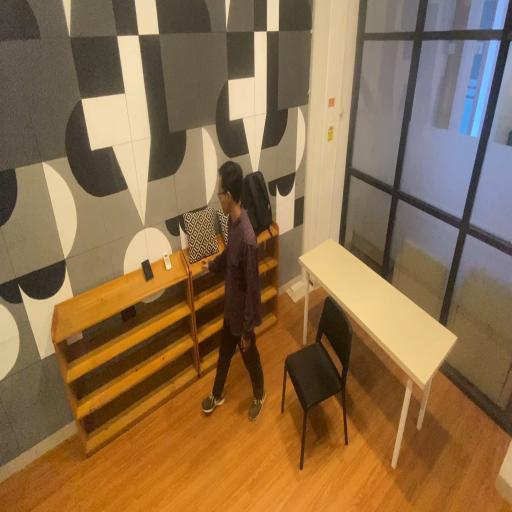bantal: (183, 204, 221, 264)
hp: (141, 256, 155, 284)
kursi: (281, 294, 356, 479)
lemari: (50, 274, 205, 463)
remote AC: (160, 251, 174, 273)
tas ransel: (242, 170, 276, 233)
